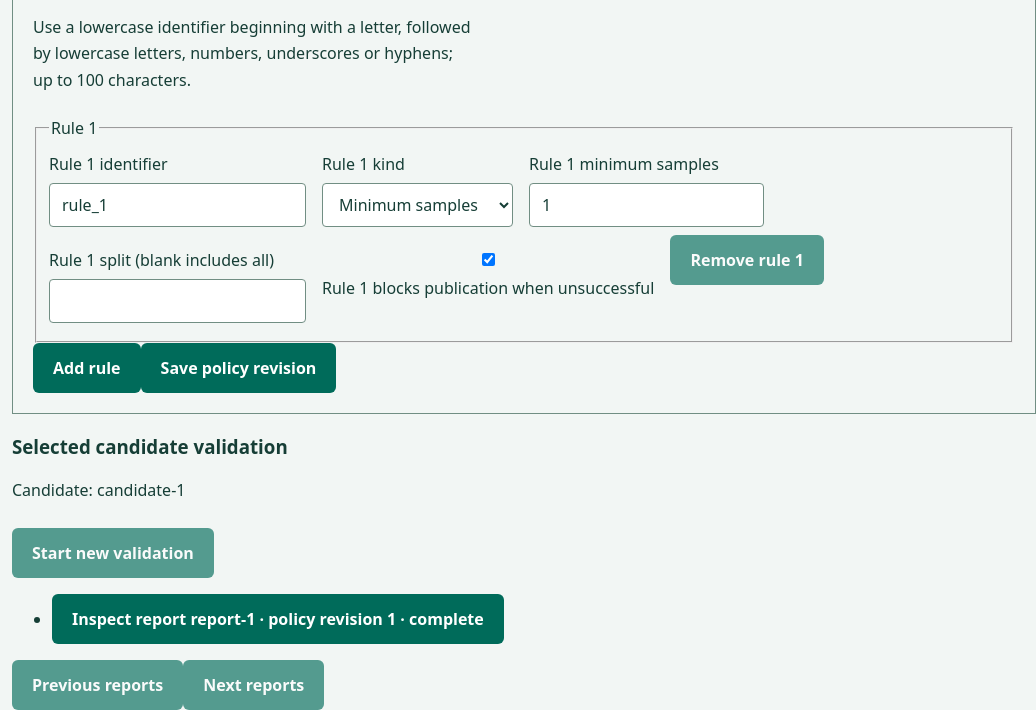
Test: candidate quality evidence › distinguishes the completed required gate verdict null
The width and height of the screenshot is (1036, 710).
(page scrolled)
Click the button "Inspect report report-1 · policy revision 1 · complete". click: [278, 619]
box: [52,594,504,644]
(page scrolled)
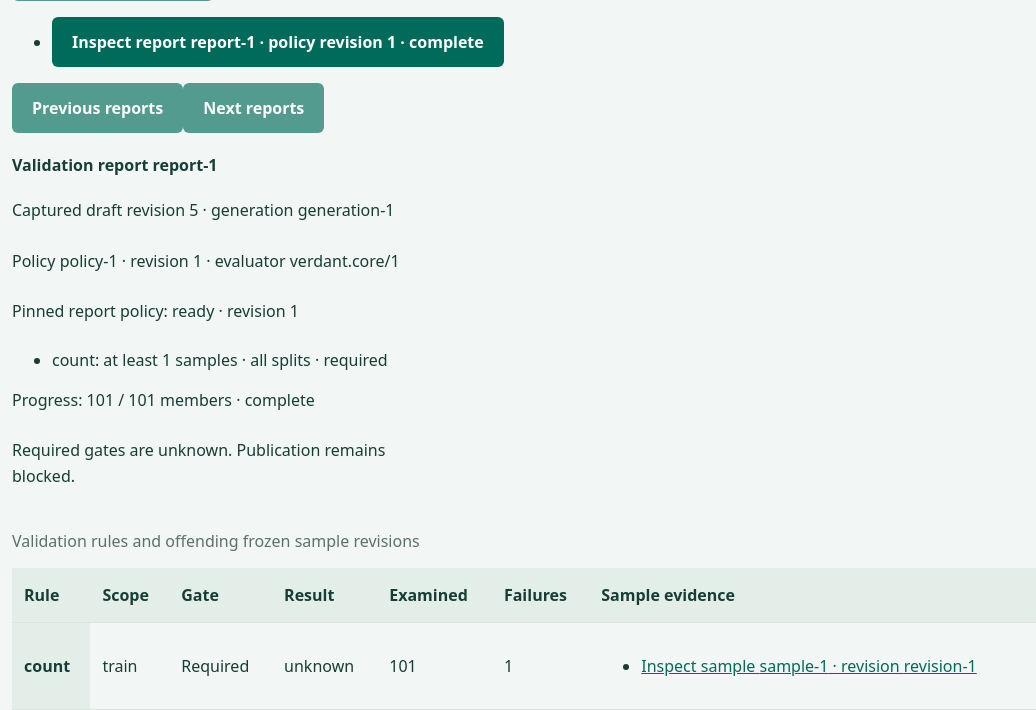
Result: the text "Required gates are unknown. Publication remains blocked." is shown at [12,437,451,490]
Result: the text "Captured draft revision 5 · generation generation-1" is shown at [12,197,451,224]
Result: the text "generation-1" is shown at [298,199,394,221]
